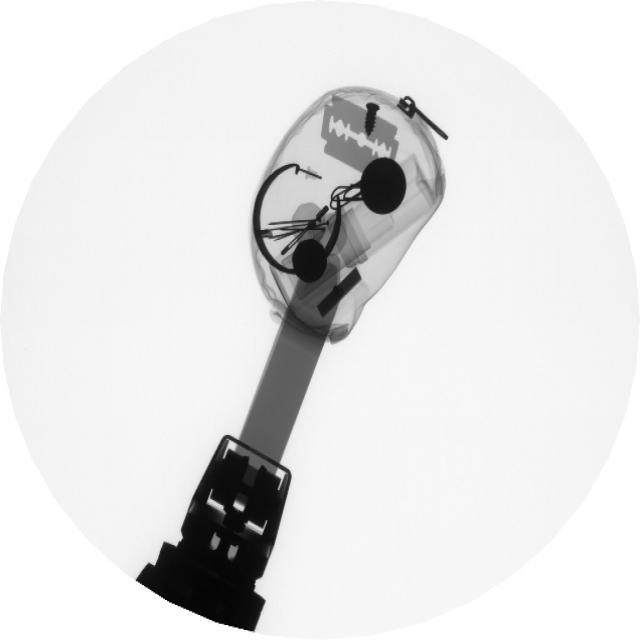BLADE: (315, 95, 405, 187)
GUN: (357, 93, 386, 152)
